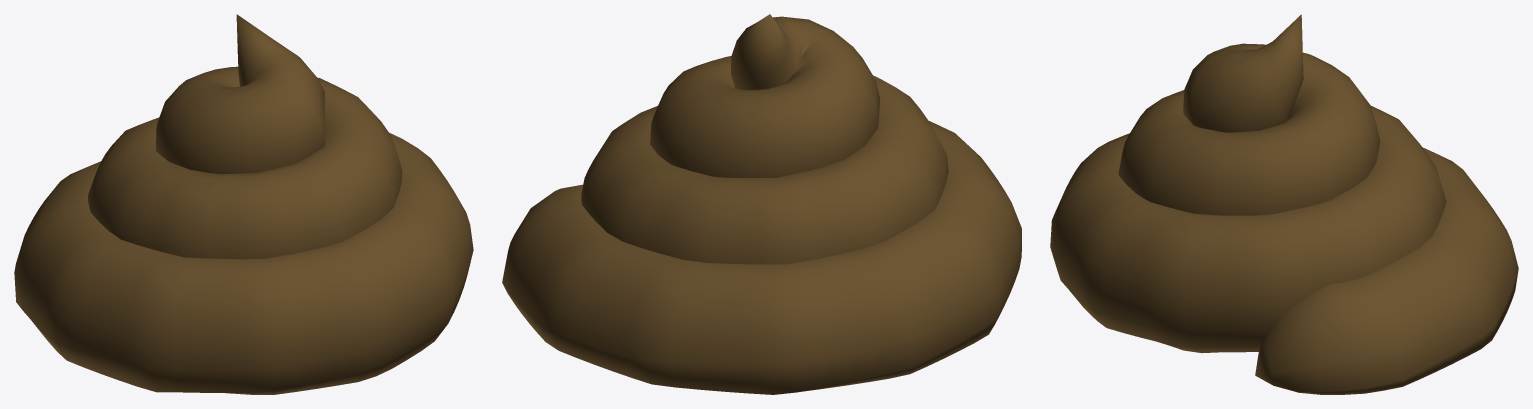
File: Shit.fbx
3 renders of one model, left to right at view 1: azimuth 30°, elevation 25°; view 2: azimuth 150°, elevation 25°; view 3: azimuth 270°, elevation 25°, orthographic. The views are drawn at different scales.
Parts seen in each view (by area): view 1: Shit; view 2: Shit; view 3: Shit.
Part boxes in pixels (x1,y1,x2,y2): Shit: [14, 14, 473, 394]; Shit: [502, 14, 1021, 394]; Shit: [1050, 14, 1518, 394].
Bounding box in the file's own units: 239 × 156 × 234.
